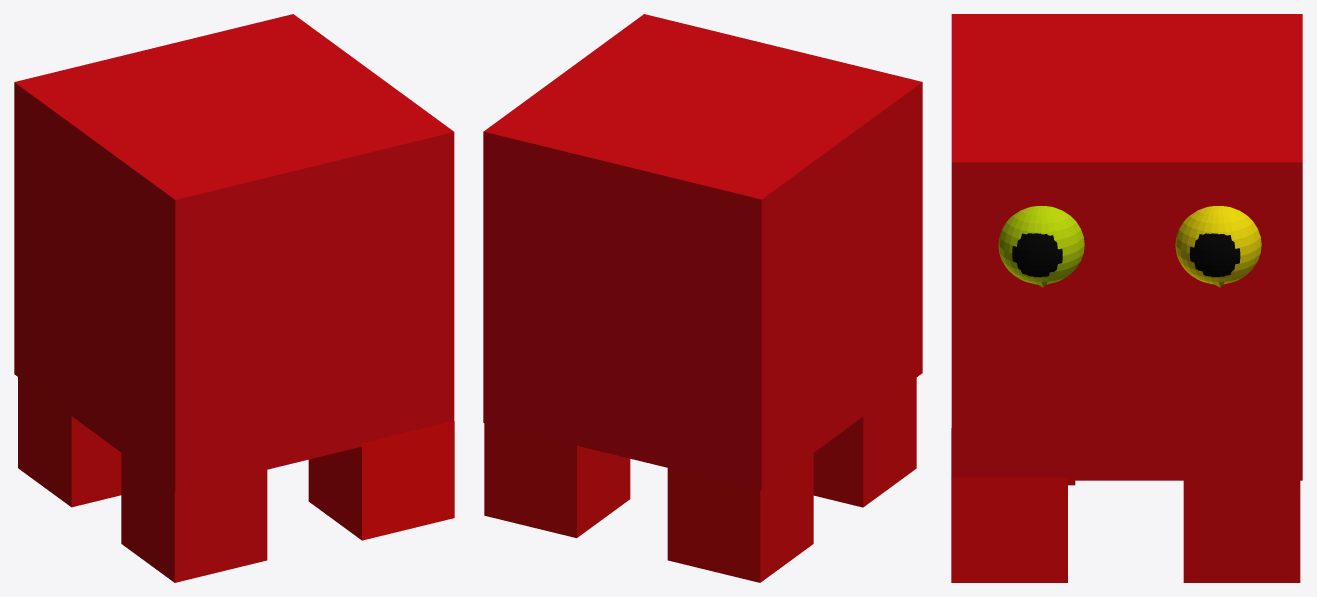
File: ghost.fbx
3 views of the same model, side by side, from view 1: azimuth 30°, elevation 25°; view 2: azimuth 150°, elevation 25°; view 3: azimuth 270°, elevation 25° (orthographic). The views are drawn at different scales.
Visible parts, largest first — view 1: Cube, Cube.004, Cube.001, Cube.003; view 2: Cube, Cube.003, Cube.002, Cube.004; view 3: Cube, Cube.002, Cube.001, Sphere, Sphere.001, Sphere.002, Sphere.003.
Boxes of the visible parts, bbox=[...] form: Cube: bbox=[14, 14, 454, 491]; Cube.004: bbox=[121, 453, 267, 582]; Cube.001: bbox=[308, 421, 454, 540]; Cube.003: bbox=[18, 377, 121, 507]; Cube: bbox=[483, 14, 922, 490]; Cube.003: bbox=[667, 453, 813, 582]; Cube.002: bbox=[484, 423, 630, 538]; Cube.004: bbox=[813, 377, 916, 507]; Cube: bbox=[951, 14, 1302, 480]; Cube.002: bbox=[1183, 477, 1300, 582]; Cube.001: bbox=[951, 428, 1067, 582]; Sphere: bbox=[998, 206, 1084, 287]; Sphere.001: bbox=[1175, 206, 1261, 287]; Sphere.002: bbox=[1012, 233, 1062, 277]; Sphere.003: bbox=[1189, 233, 1240, 276].
Size of the model in its own units: 219 by 264 by 200.
